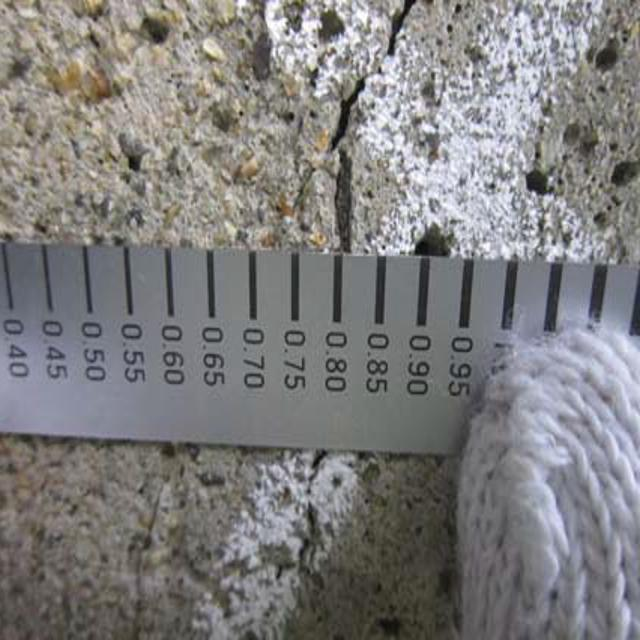crack: (317, 9, 413, 257)
